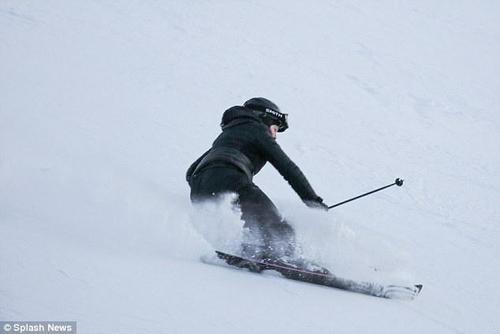fall: (172, 91, 340, 276)
